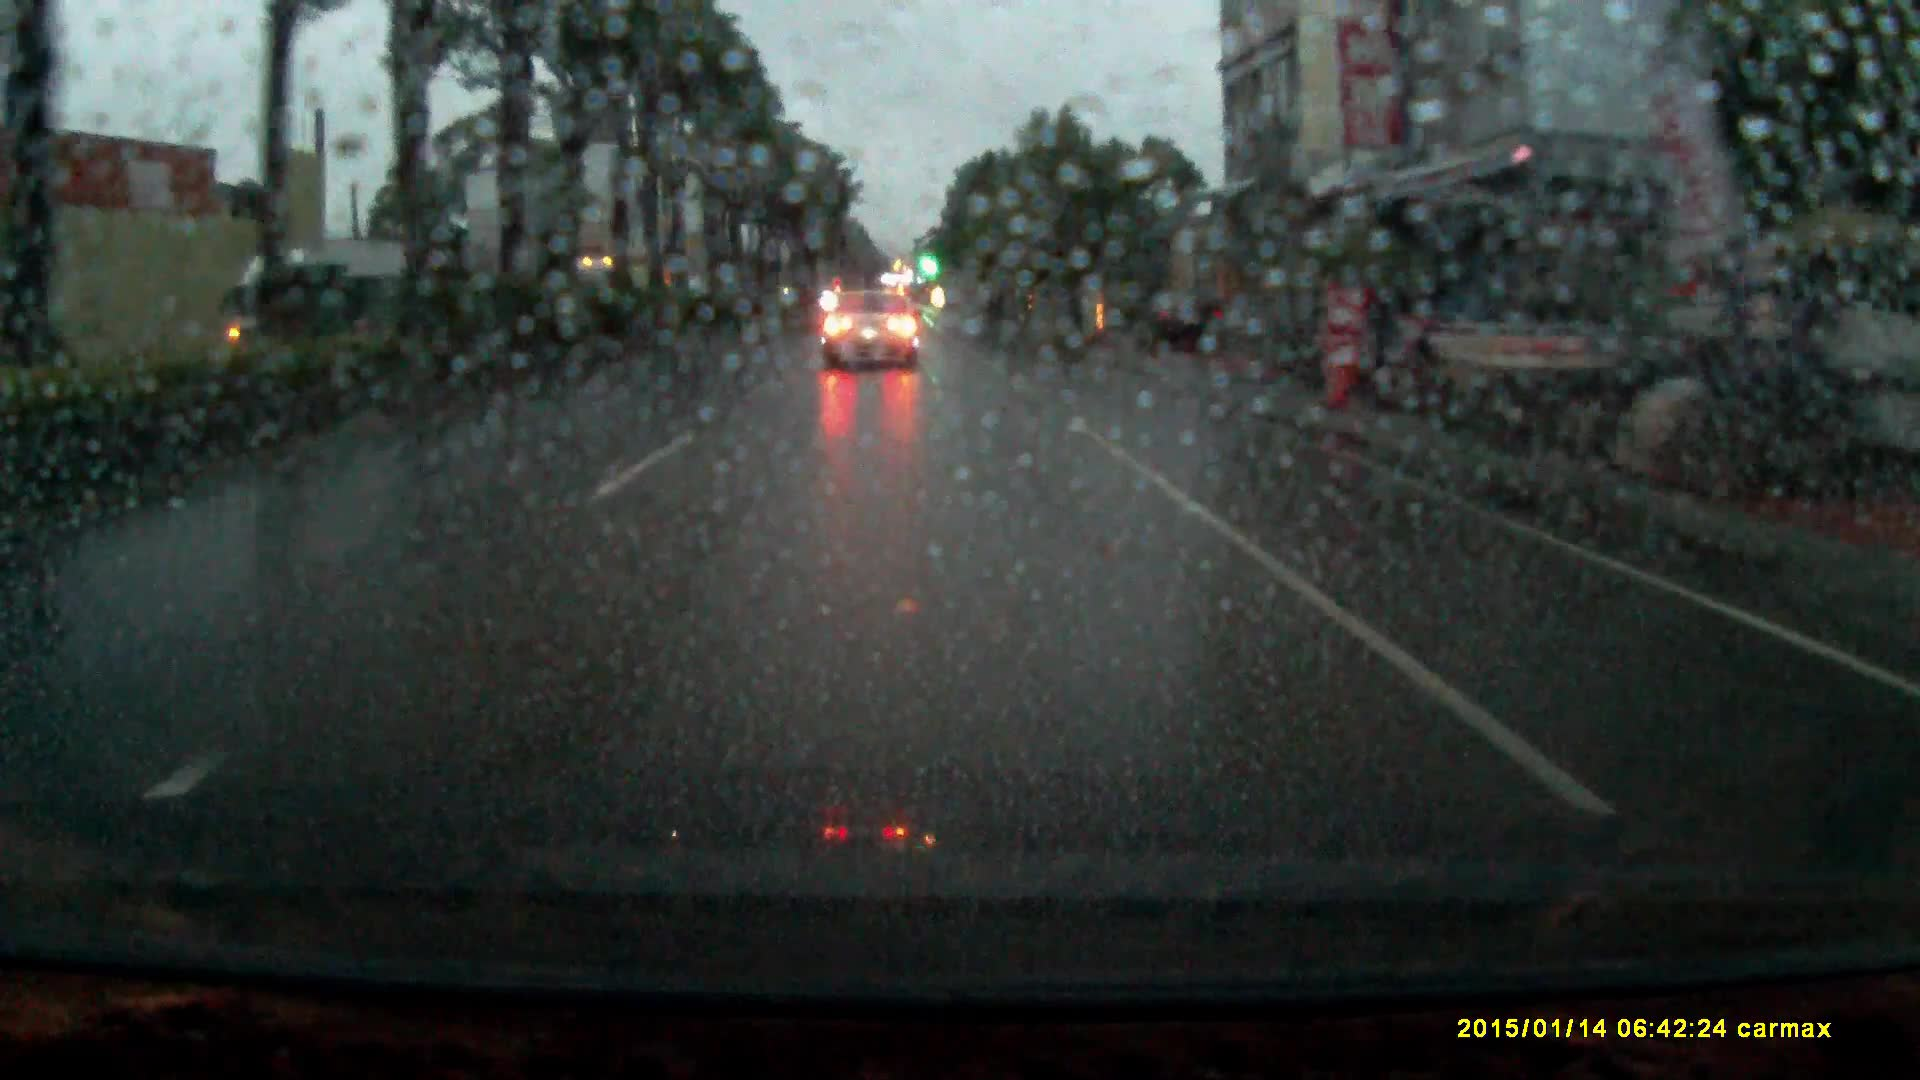vehicle: (225, 247, 413, 357), (823, 291, 923, 377), (1134, 294, 1228, 363), (572, 268, 654, 298)
